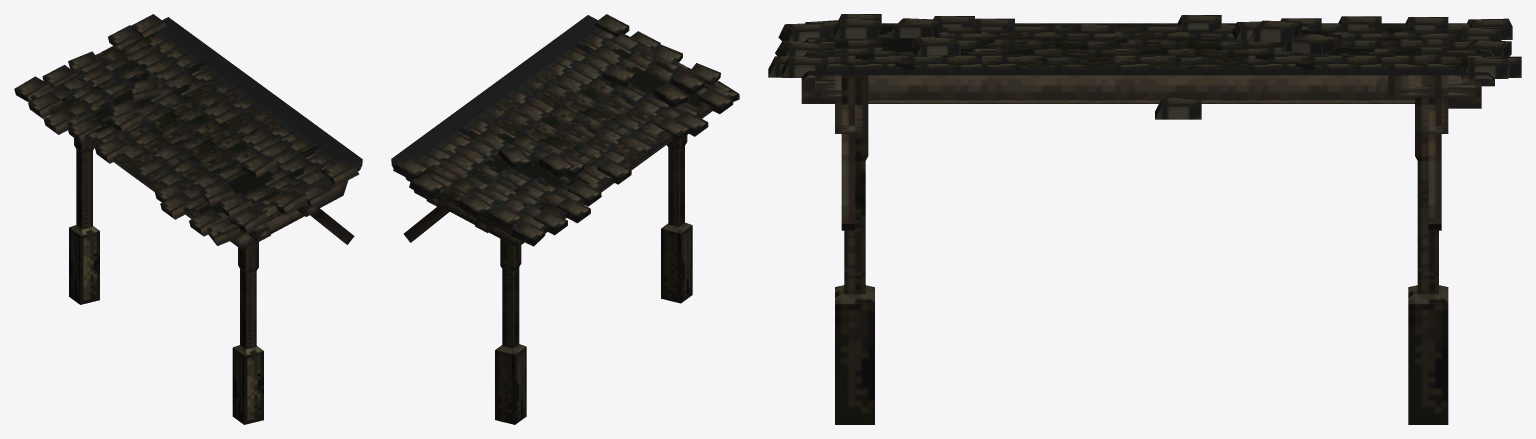
Rendered from EnvBdgMD_WoodHouse_A_Outdoor_Roof_B_Broken.FBX.
The picture shows the model from 3 angles, left to right: view 1: azimuth 30°, elevation 25°; view 2: azimuth 150°, elevation 25°; view 3: azimuth 270°, elevation 25°; orthographic projection. The views are drawn at different scales.
Visible parts, largest first — view 1: EnvBdgMD_WoodHouse_A_Outdoor_Roof_B_Broken; view 2: EnvBdgMD_WoodHouse_A_Outdoor_Roof_B_Broken; view 3: EnvBdgMD_WoodHouse_A_Outdoor_Roof_B_Broken.
Part boxes in pixels (x1,y1,x2,y2): EnvBdgMD_WoodHouse_A_Outdoor_Roof_B_Broken: [14, 14, 362, 424]; EnvBdgMD_WoodHouse_A_Outdoor_Roof_B_Broken: [391, 14, 739, 424]; EnvBdgMD_WoodHouse_A_Outdoor_Roof_B_Broken: [768, 14, 1521, 424].
Bounding box in the file's own units: 237 × 355 × 565.
Materials: 1 (1 with a texture image).
